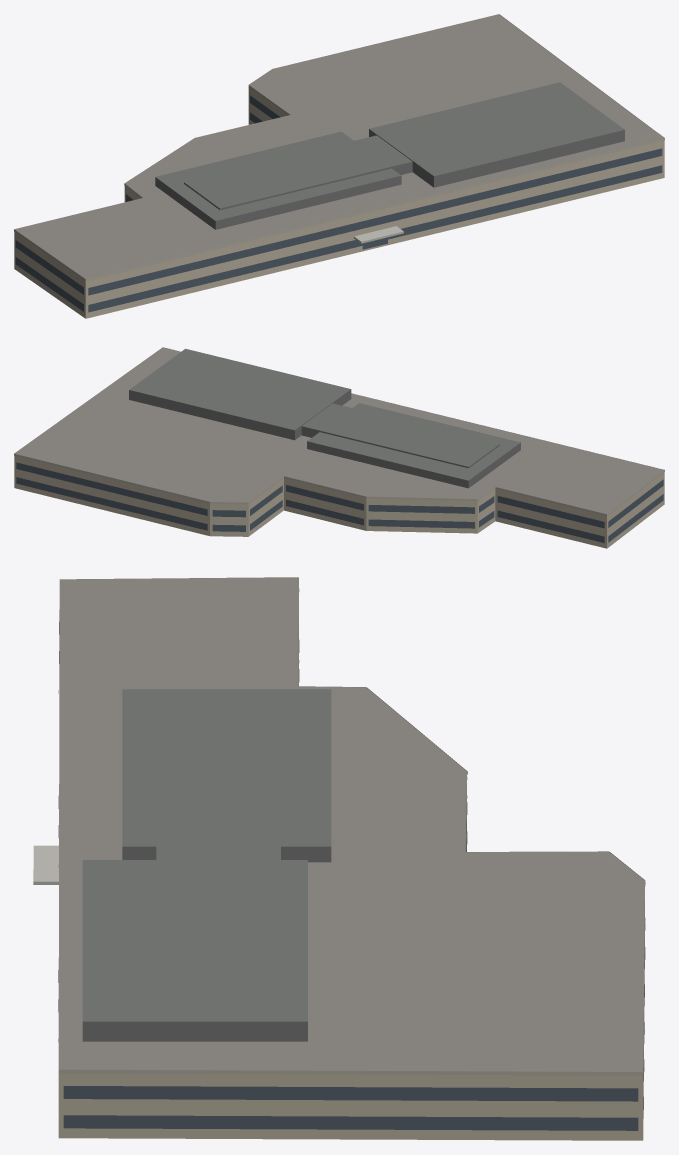
File: office-7074-m2-bo53577.glb
3 renders of one model, top to bottom at view 1: azimuth 30°, elevation 25°; view 2: azimuth 150°, elevation 25°; view 3: azimuth 270°, elevation 25°, orthographic. The views are drawn at different scales.
Visible parts, largest first — view 1: office_7074_m2_bo53577; view 2: office_7074_m2_bo53577; view 3: office_7074_m2_bo53577.
Part boxes in pixels (x1,y1,x2,y2): office_7074_m2_bo53577: (14, 14, 664, 318); office_7074_m2_bo53577: (14, 347, 664, 548); office_7074_m2_bo53577: (33, 577, 645, 1140).
Bounding box in the file's own units: 137 × 11.48 × 71.79.
